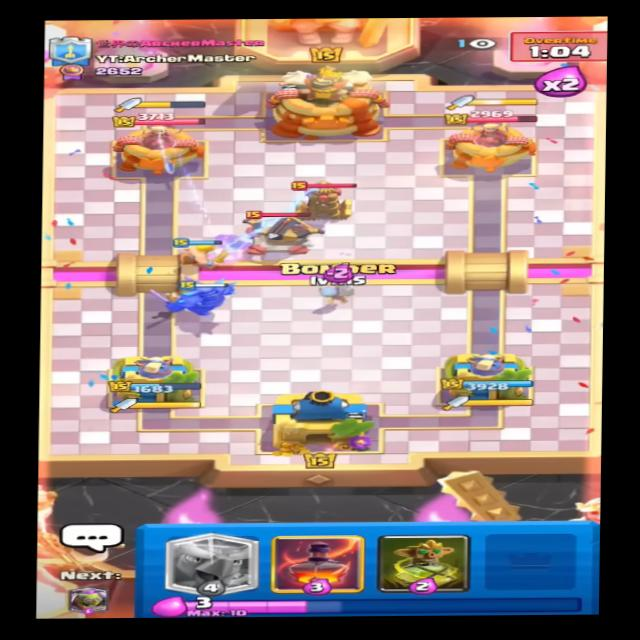tesla: (291, 181, 362, 223)
x-bow: (230, 208, 320, 260)
